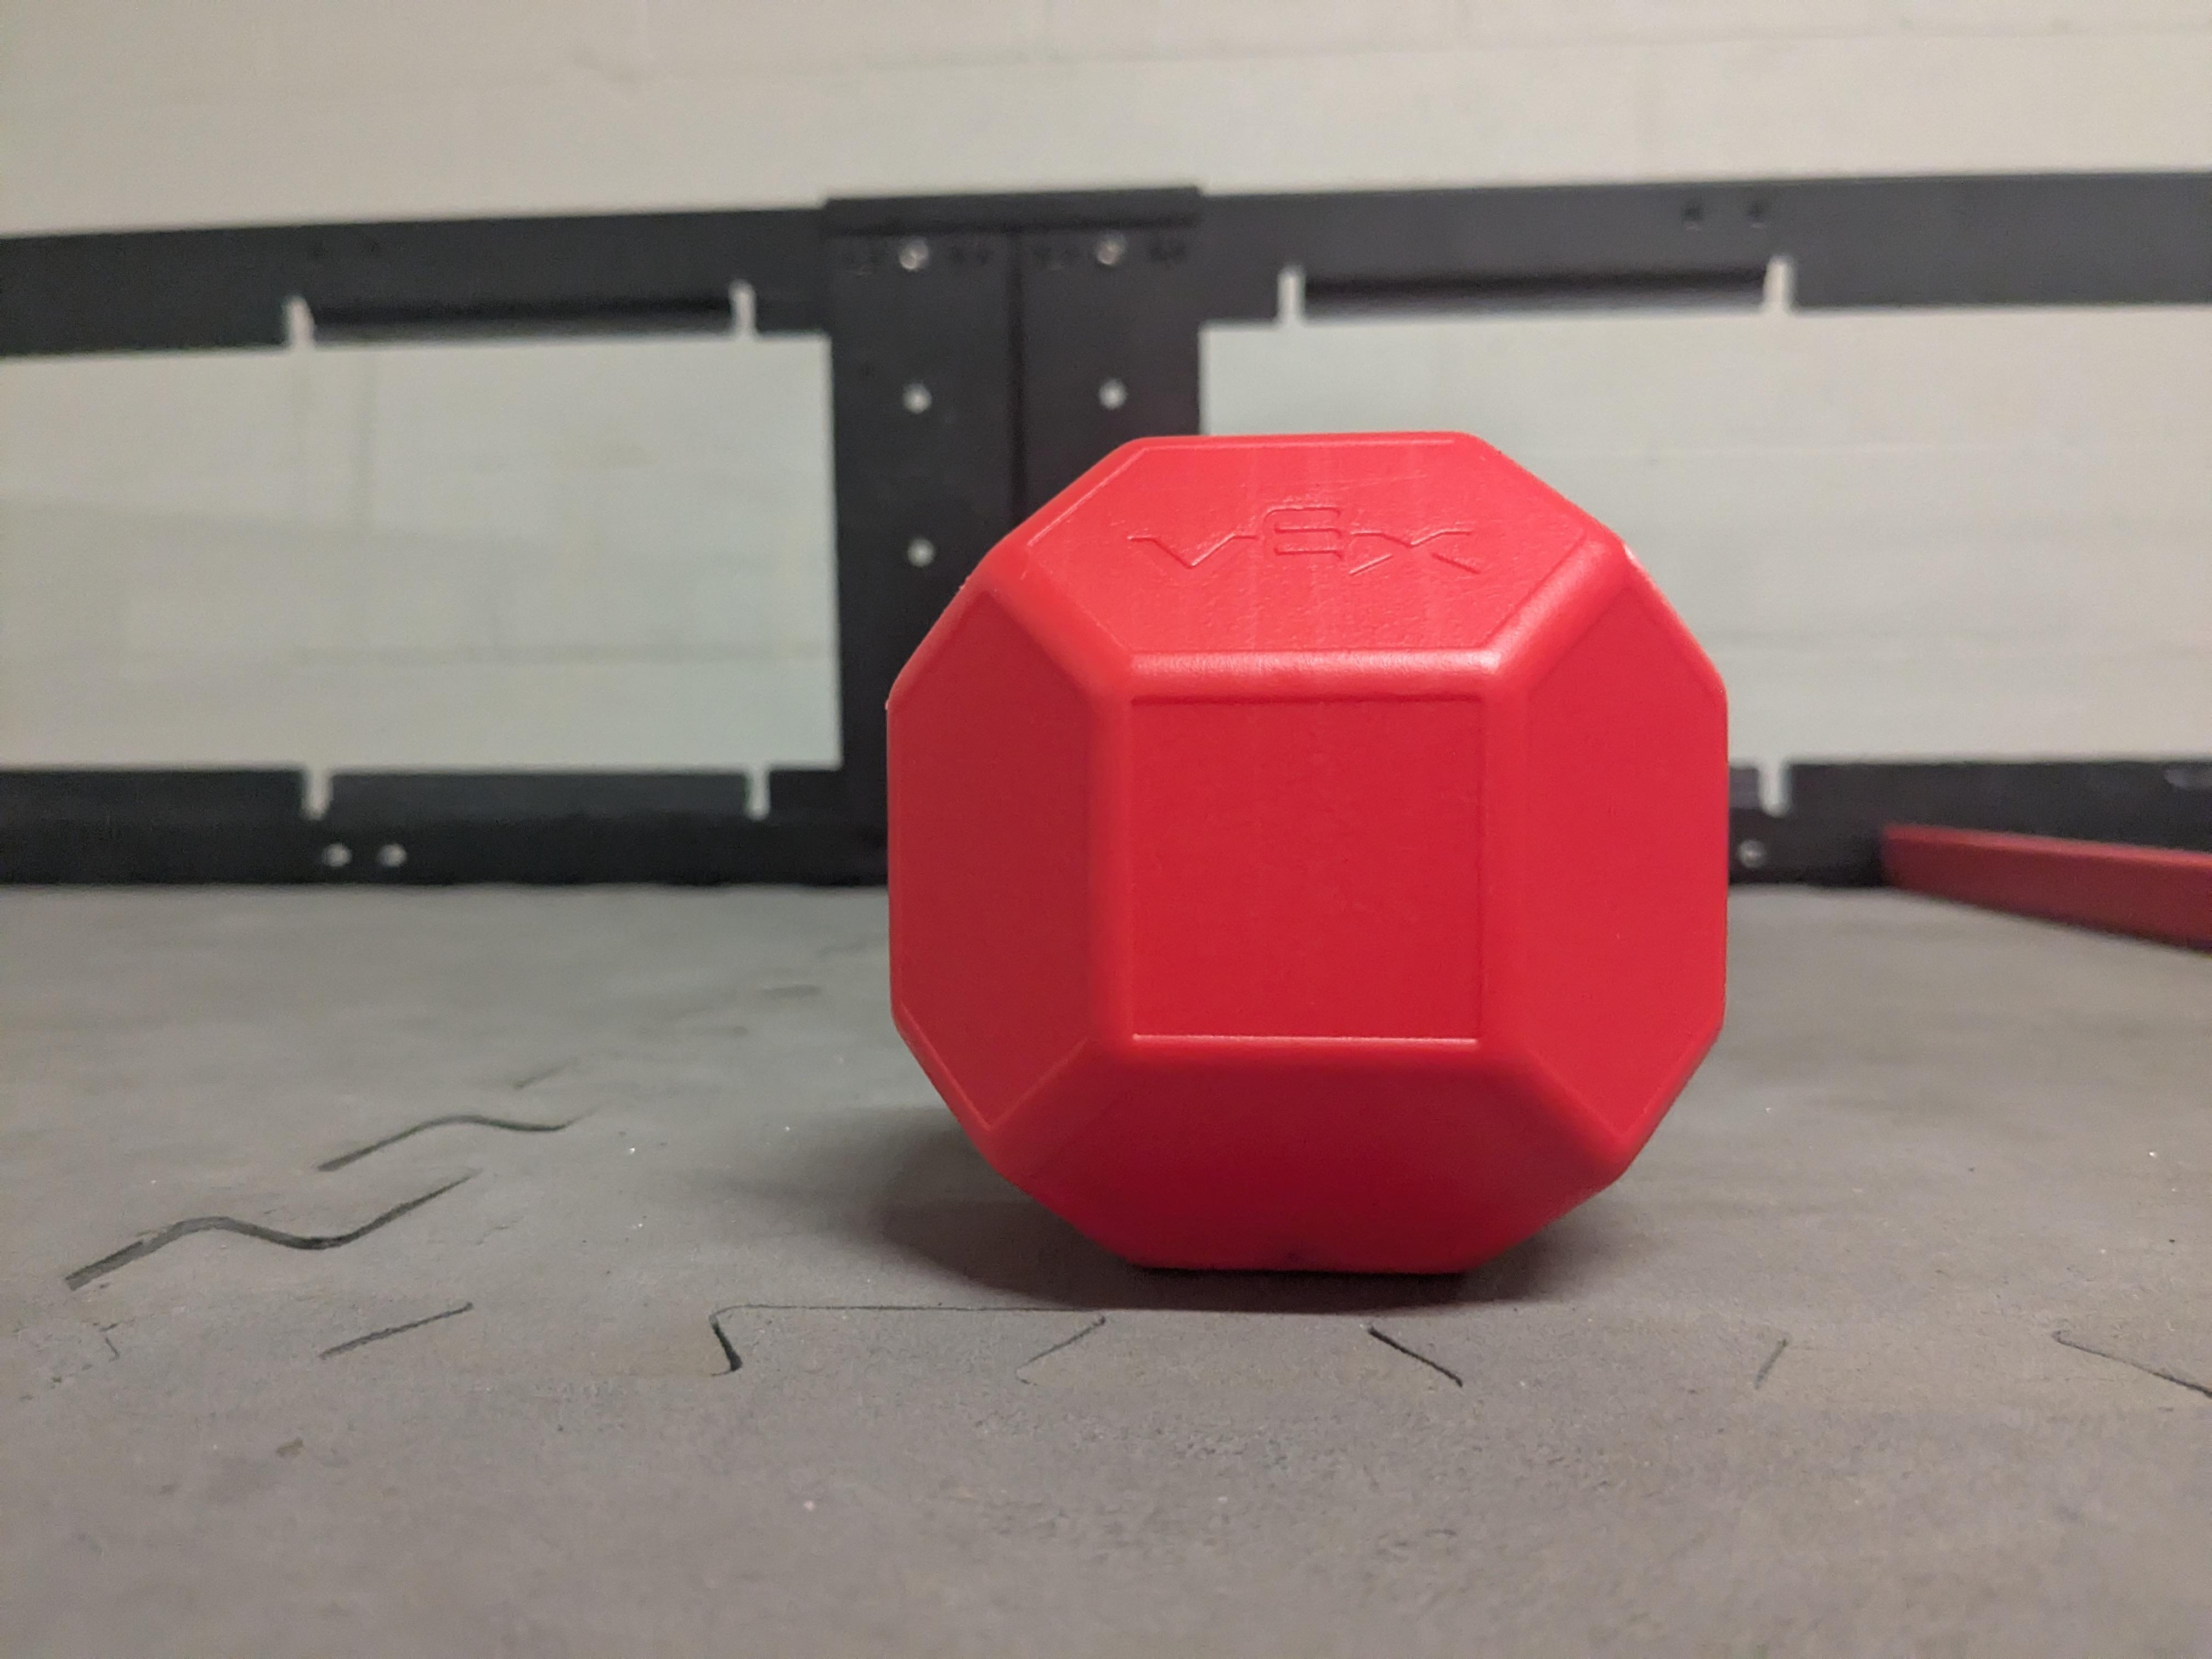Vex-Pieces-RED: (892, 439, 1738, 1284)
